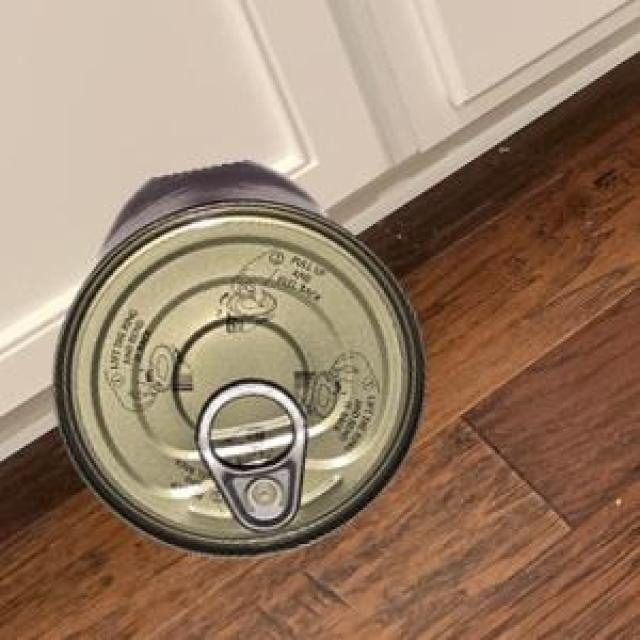Can: (50, 157, 423, 554)
